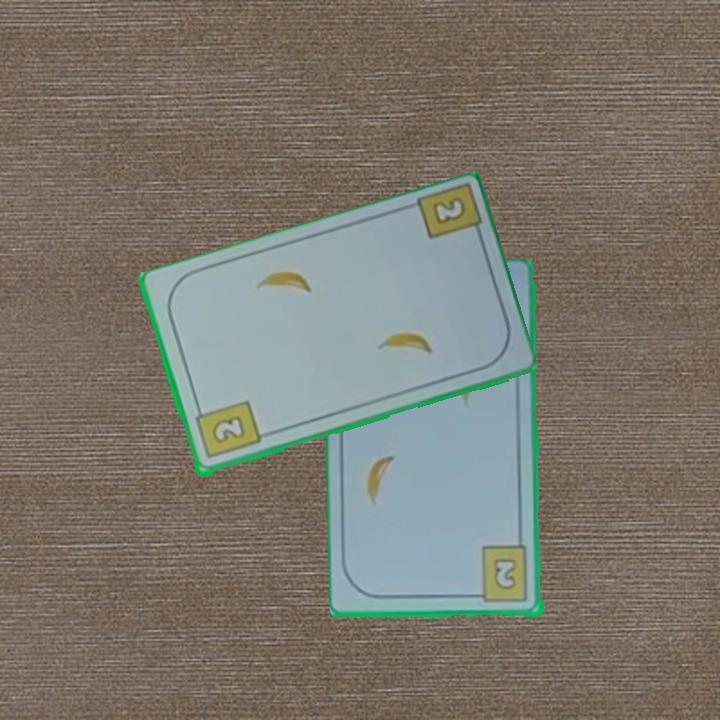2b: (191, 397, 263, 462), (470, 544, 531, 606), (428, 197, 465, 228)
